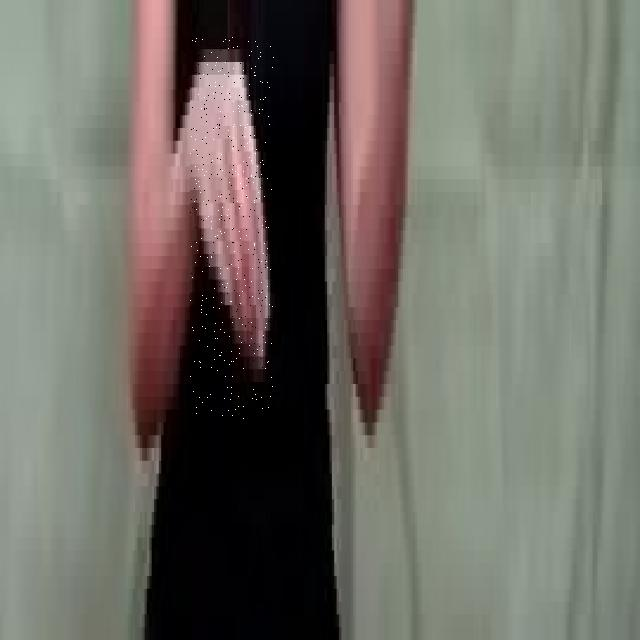ingredients: (190, 38, 274, 420)
